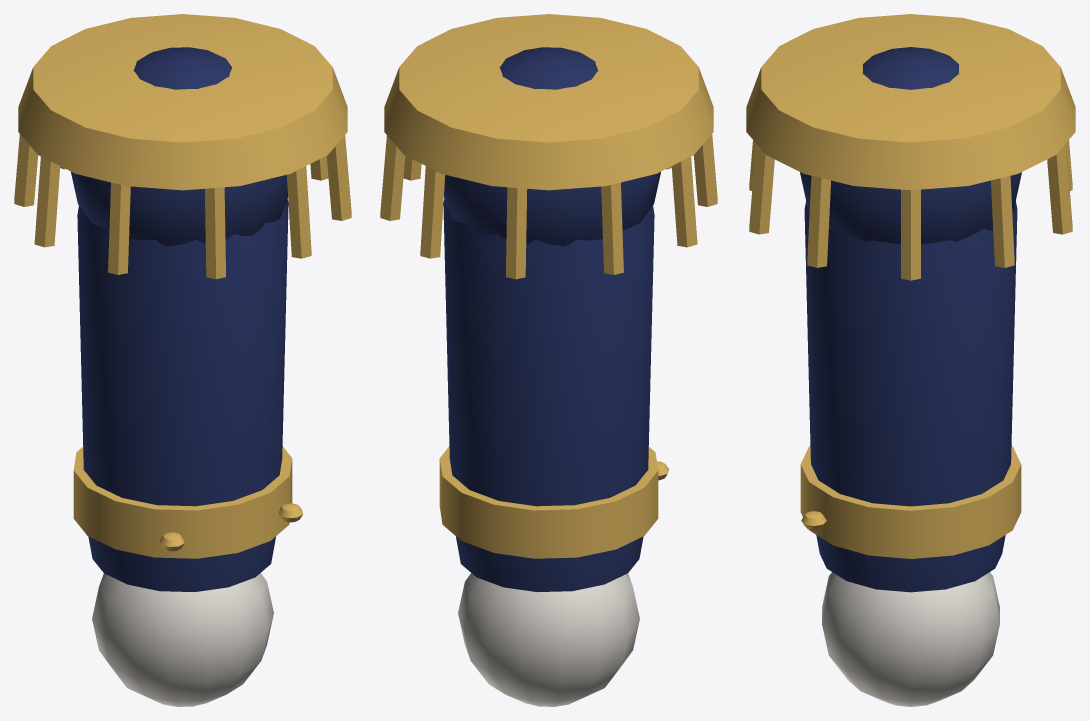
File: Cmd_Arm.fbx
The picture shows the model from 3 angles, left to right: view 1: azimuth 30°, elevation 25°; view 2: azimuth 150°, elevation 25°; view 3: azimuth 270°, elevation 25°; orthographic projection.
Visible parts, largest first — view 1: Cmd_Arm; view 2: Cmd_Arm; view 3: Cmd_Arm.
Part boxes in pixels (left/top/right/bottom): Cmd_Arm: left=14, top=14, right=351, bottom=706; Cmd_Arm: left=380, top=14, right=717, bottom=706; Cmd_Arm: left=746, top=14, right=1075, bottom=706.
Size of the model in its own units: 0.135 by 0.279 by 0.13.
